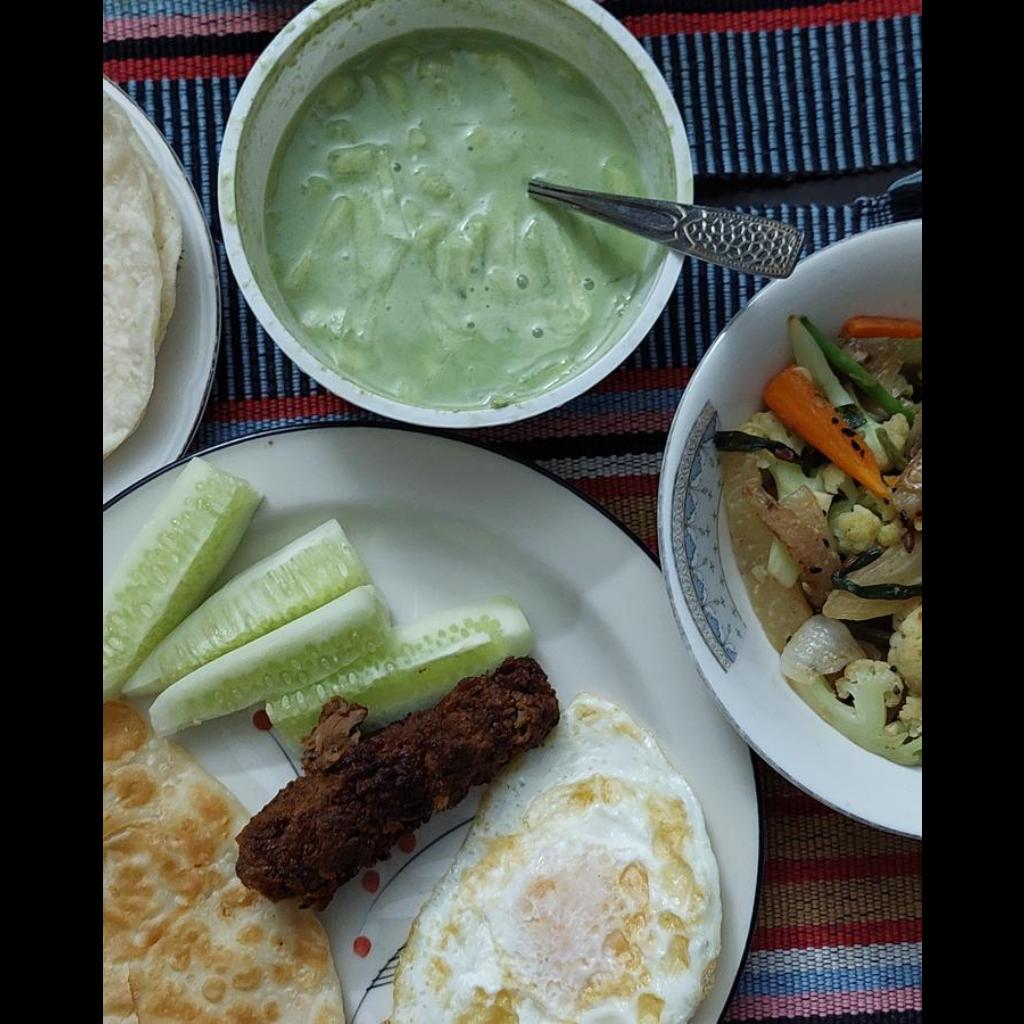cucumber: (104, 462, 524, 768)
egg-poached: (391, 696, 718, 1023)
roll: (236, 652, 552, 910)
ruti: (102, 711, 347, 1023), (102, 103, 182, 457)
salad: (263, 32, 653, 399)
vegetable: (718, 294, 920, 763)
